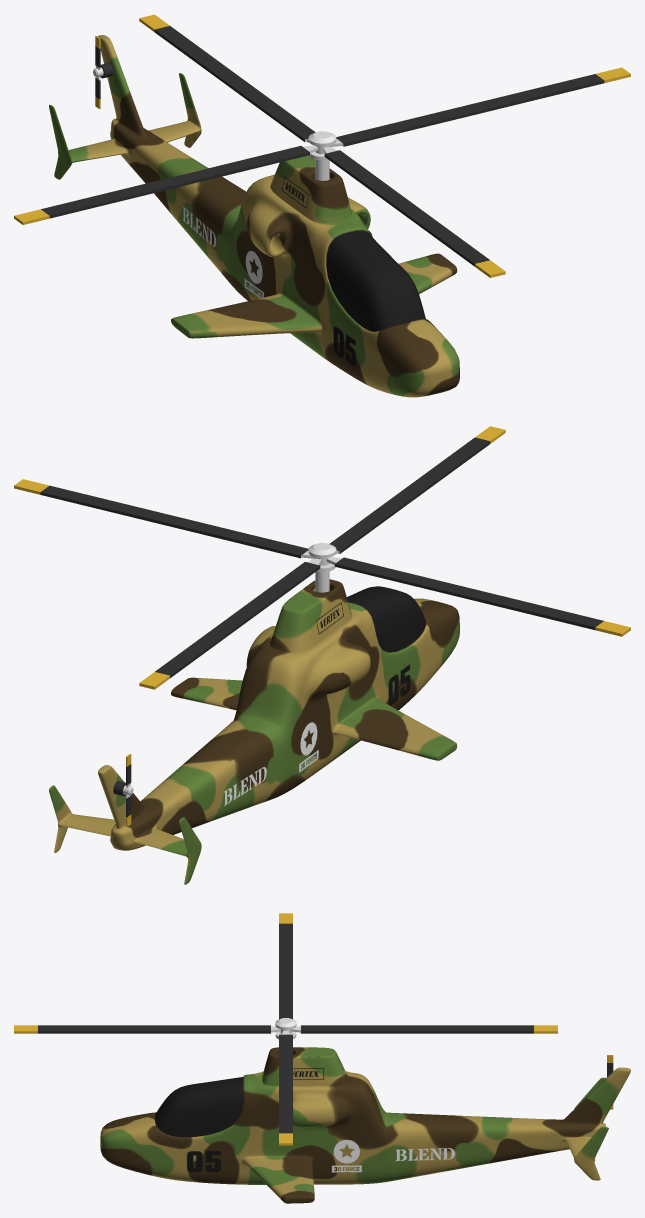
Rendered from AnotherTestHelicopter.glb.
3 renders of one model, top to bottom at view 1: azimuth 30°, elevation 25°; view 2: azimuth 150°, elevation 25°; view 3: azimuth 270°, elevation 25°, orthographic. The views are drawn at different scales.
Visible parts, largest first — view 1: Helicopter Body, Main Rotor, Tail Rotor; view 2: Helicopter Body, Main Rotor; view 3: Helicopter Body, Main Rotor.
Boxes of the visible parts, x1=… form: Helicopter Body: x1=49, y1=35, x2=459, y2=397; Main Rotor: x1=14, y1=14, x2=630, y2=277; Tail Rotor: x1=93, y1=36, x2=113, y2=108; Helicopter Body: x1=49, y1=579, x2=459, y2=884; Main Rotor: x1=14, y1=426, x2=630, y2=689; Helicopter Body: x1=100, y1=1047, x2=630, y2=1203; Main Rotor: x1=14, y1=913, x2=557, y2=1145.
Bounding box in the file's own units: 26.99 × 8.69 × 30.61.
4 materials, 1 textured.
